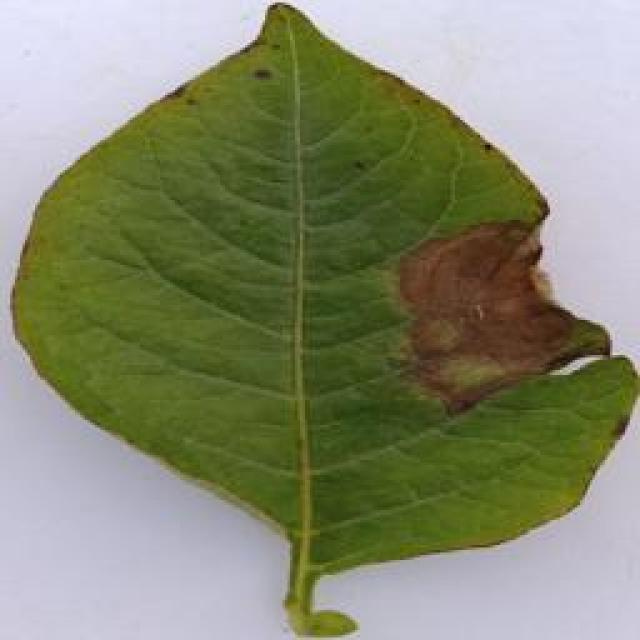Potato_Late_Blight: (12, 1, 625, 632)
